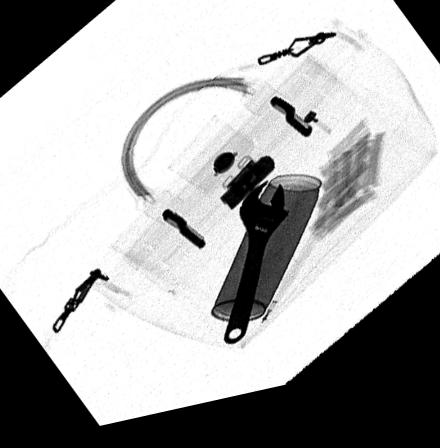Wrench: (222, 190, 292, 357)
